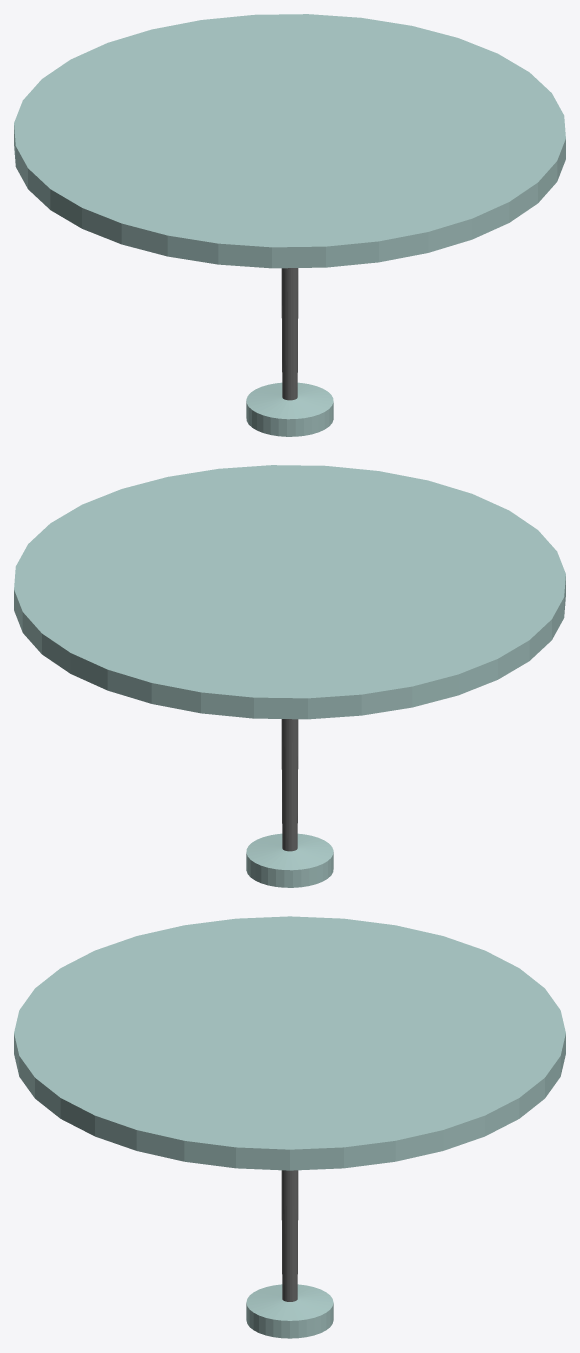
File: Table.fbx
3 renders of one model, top to bottom at view 1: azimuth 30°, elevation 25°; view 2: azimuth 150°, elevation 25°; view 3: azimuth 270°, elevation 25°, orthographic.
Parts seen in each view (by area): view 1: Table; view 2: Table; view 3: Table.
Part boxes in pixels (x1,y1,x2,y2): Table: (14,14,565,436); Table: (14,465,565,887); Table: (14,916,565,1338).
Bounding box in the file's own units: 1266 × 727 × 1266.
